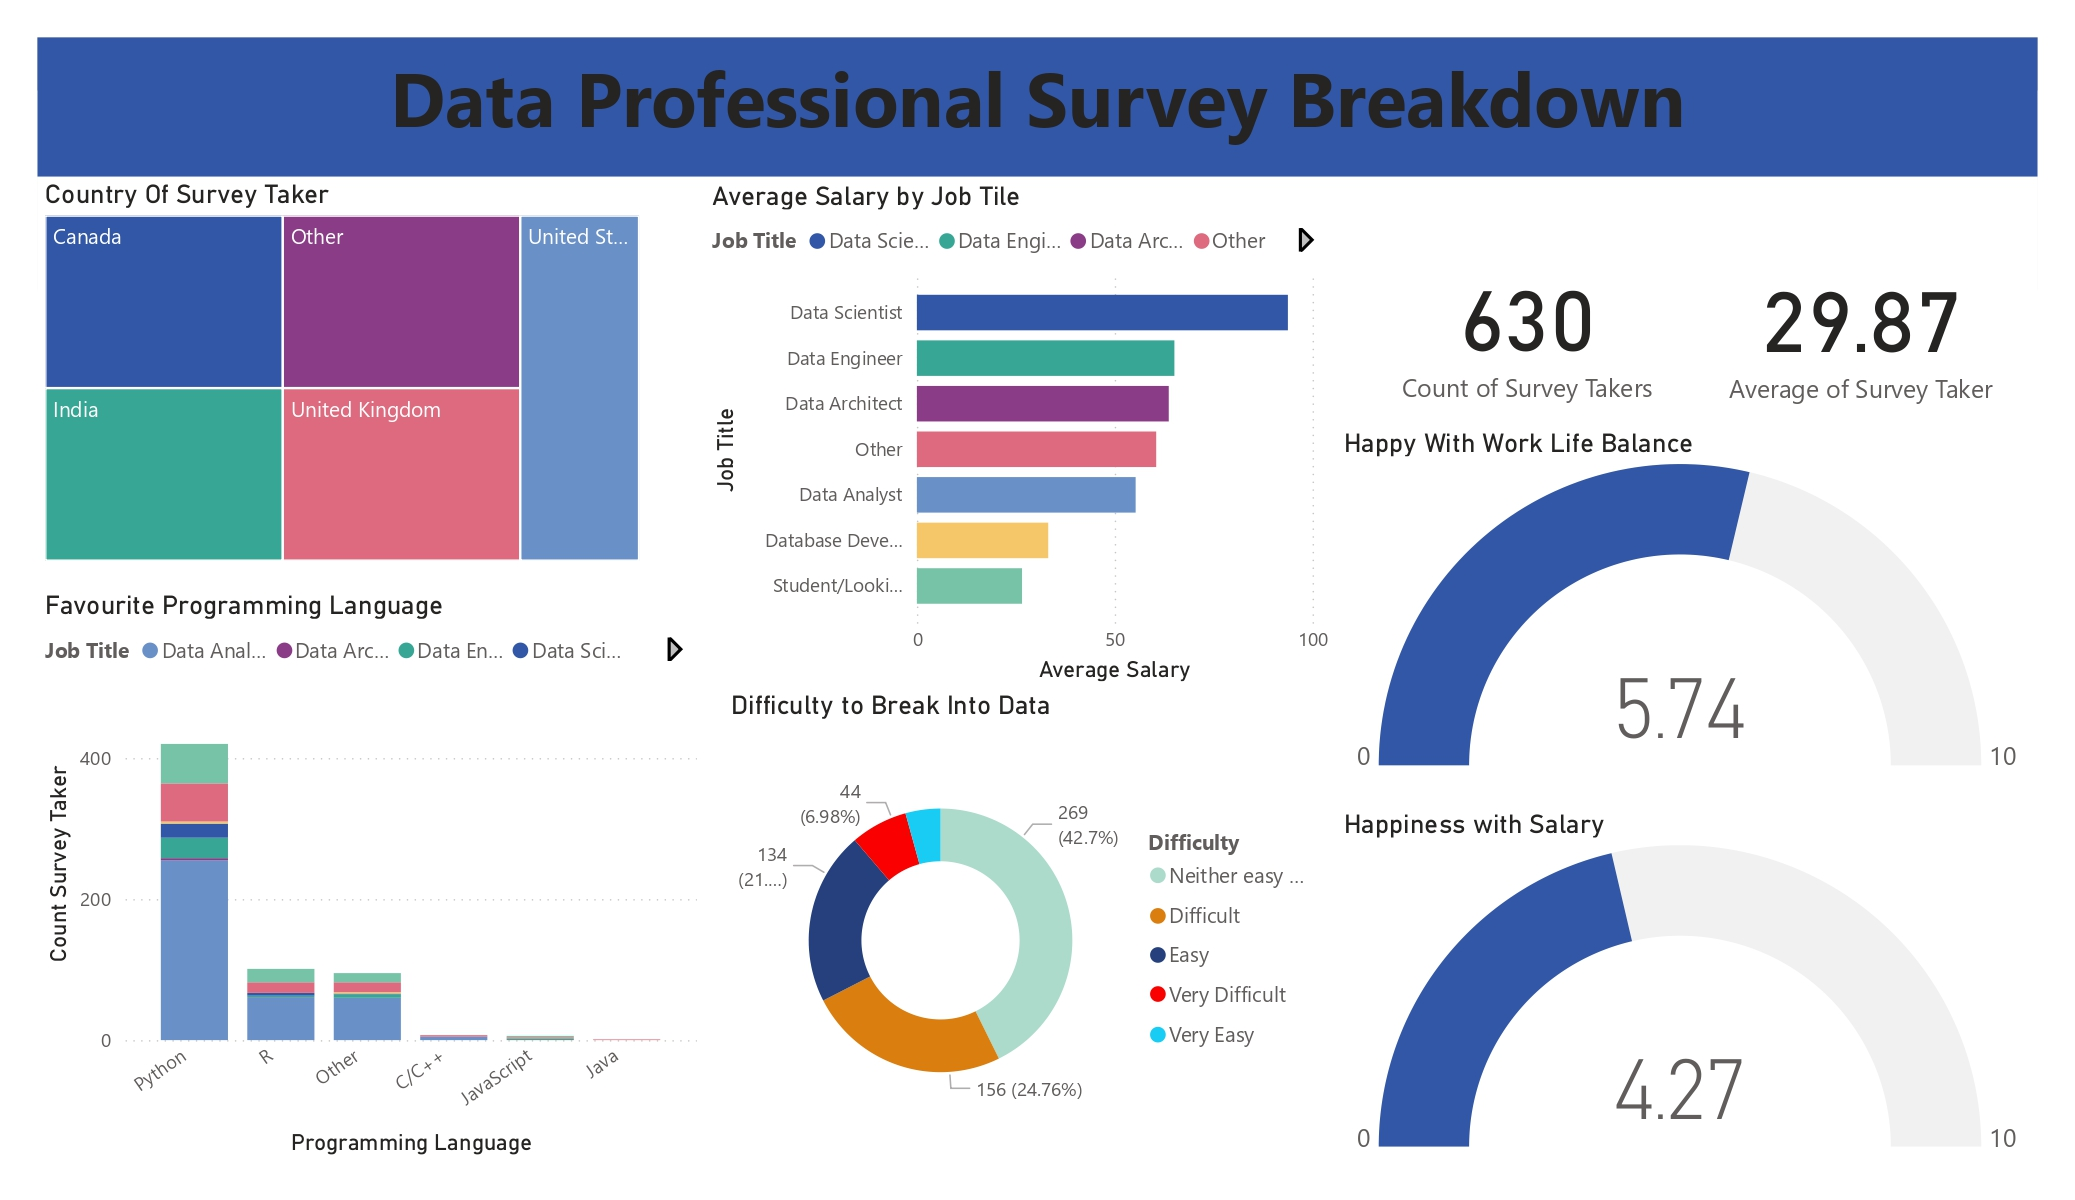

This screenshot's page, from the dashboard's own definition file:
{"tool":"powerbi","page":{"name":"Page 1","canvas":[1280,720],"ordinal":0},"visuals":[{"type":"textbox","box":[0,0,1280.3,89.2],"z":0},{"type":"card","fields":{"Values":["Count(Data Professional Survey.Unique ID)"]},"box":[852.9,91.4,201.4,188.6],"z":1000},{"type":"card","fields":{"Values":["Avg(Data Professional Survey.Q10 - Current Age)"]},"box":[1054.3,91.4,225.7,190],"z":2000},{"type":"barChart","title":"Average Salary by Job Tile","fields":{"Category":["Data Professional Survey.Q1 - Which Title Best Fits your Current Role?.1"],"Y":["Avg(Data Professional Survey.Average Salary in a year (USD))"],"Series":["Data Professional Survey.Q1 - Which Title Best Fits your Current Role?.1"]},"box":[427.1,91.4,404.3,325.7],"z":3000},{"type":"columnChart","title":"Favourite Programming Language","fields":{"Category":["Data Professional Survey.Q5 - Favorite Programming Language.1"],"Y":["CountNonNull(Data Professional Survey.Unique ID)"],"Series":["Data Professional Survey.Q1 - Which Title Best Fits your Current Role?.1"]},"box":[0,352.9,427.1,367.1],"z":4000},{"type":"treemap","title":"Country Of Survey Taker","fields":{"Group":["Data Professional Survey.Q11 - Which Country do you live in?.1"],"Values":["Count(Data Professional Survey.Q11 - Which Country do you live in?.1)"]},"box":[0,90,390,250],"z":5000},{"type":"gauge","title":"Happy With Work Life Balance","fields":{"Y":["Avg(Data Professional Survey.Q6 - How Happy are you in your Current Position with the following? (Work/Life Balance))"],"MinValue":["Min(Data Professional Survey.Q6 - How Happy are you in your Current Position with the following? (Work/Life Balance))1"],"MaxValue":["Max(Data Professional Survey.Q6 - How Happy are you in your Current Position with the following? (Work/Life Balance))2"]},"box":[831.4,248.6,448.6,227.1],"z":5001},{"type":"gauge","title":"Happiness with Salary","fields":{"Y":["Avg(Data Professional Survey.Q6 - How Happy are you in your Current Position with the following? (Salary))"],"MinValue":["Min(Data Professional Survey.Q6 - How Happy are you in your Current Position with the following? (Salary))"],"MaxValue":["Max(Data Professional Survey.Q6 - How Happy are you in your Current Position with the following? (Salary))"]},"box":[831.4,492.9,448.6,227.1],"z":5002},{"type":"donutChart","title":"Difficulty to Break Into Data","fields":{"Category":["Data Professional Survey.Q7 - How difficult was it for you to break into Data?"],"Y":["CountNonNull(Data Professional Survey.Q7 - How difficult was it for you to break into Data?)"]},"box":[438.6,417.1,392.9,302.9],"z":5003}]}

Visuals, with their boxes on the page's 1280x720 design canvas (x1, y1, x2, y2). These are canvas units, not pixel positions in the 2075x1200 screenshot, which may show the page scaled, cropped or inside an application window:
textbox: <region>0, 0, 1280, 89</region>
card - Count(Data Professional Survey.Unique ID): <region>853, 91, 1054, 280</region>
card - Avg(Data Professional Survey.Q10 - Current Age): <region>1054, 91, 1280, 281</region>
"Average Salary by Job Tile" barChart: <region>427, 91, 831, 417</region>
"Favourite Programming Language" columnChart: <region>0, 353, 427, 720</region>
"Country Of Survey Taker" treemap: <region>0, 90, 390, 340</region>
"Happy With Work Life Balance" gauge: <region>831, 249, 1280, 476</region>
"Happiness with Salary" gauge: <region>831, 493, 1280, 720</region>
"Difficulty to Break Into Data" donutChart: <region>439, 417, 832, 720</region>
